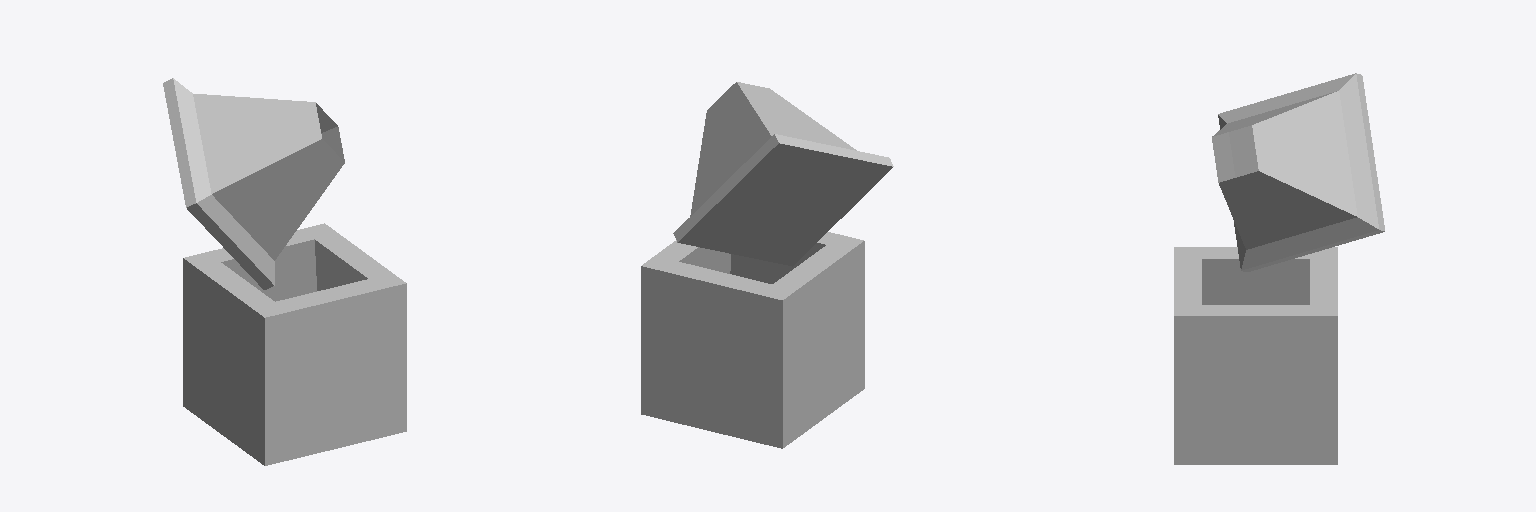
Rendered from AnimatedBox_000125.obj.
The picture shows the model from 3 angles: view 1: azimuth 30°, elevation 25°; view 2: azimuth 150°, elevation 25°; view 3: azimuth 270°, elevation 25°; orthographic projection.
Parts seen in each view (by area): view 1: Cube, Cube.001; view 2: Cube, Cube.001; view 3: Cube, Cube.001.
Boxes of the visible parts, <box> form: Cube: <box>183,223,406,465</box>; Cube.001: <box>163,78,344,289</box>; Cube: <box>641,232,864,448</box>; Cube.001: <box>673,82,893,266</box>; Cube: <box>1174,247,1337,464</box>; Cube.001: <box>1212,73,1384,271</box>.
Bounding box in the file's own units: 2.76 × 4.34 × 2.58.